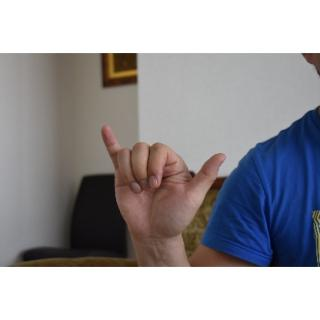YA: (100, 120, 230, 245)
